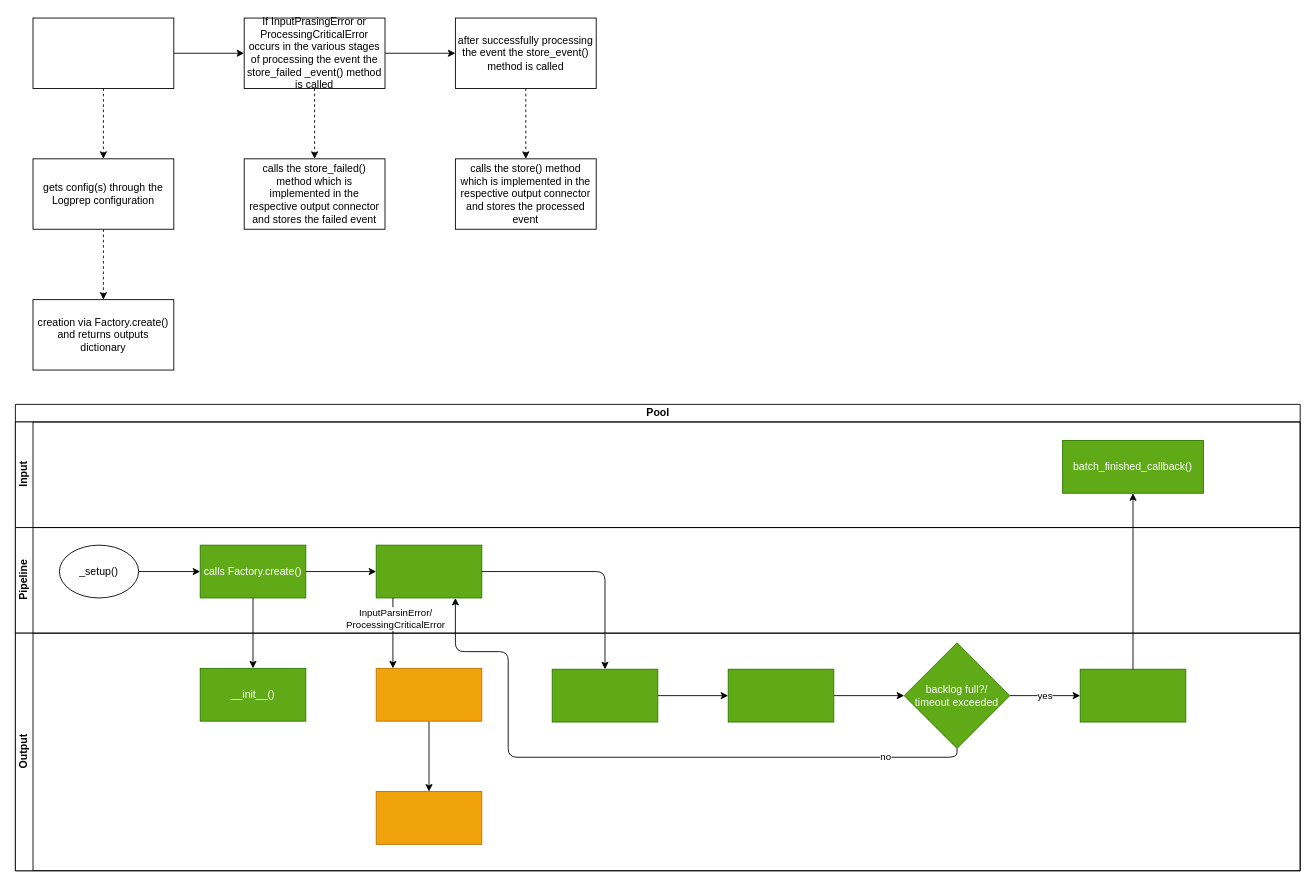
Some shapes in this 1316 by 886 pixel diagram are drawn without their labels. Each missing label, with the centre of its shape:
"processing of event" belongs at [428,571].
"set up output connector in pipeline by calling the _setup() Method" belongs at [103,52].
"store()" belongs at [780,695].
"store_event()" belongs at [604,695].
"store_failed()" belongs at [428,817].
"store_failed_event()" belongs at [428,694].
"write backlog" belongs at [1132,695].
